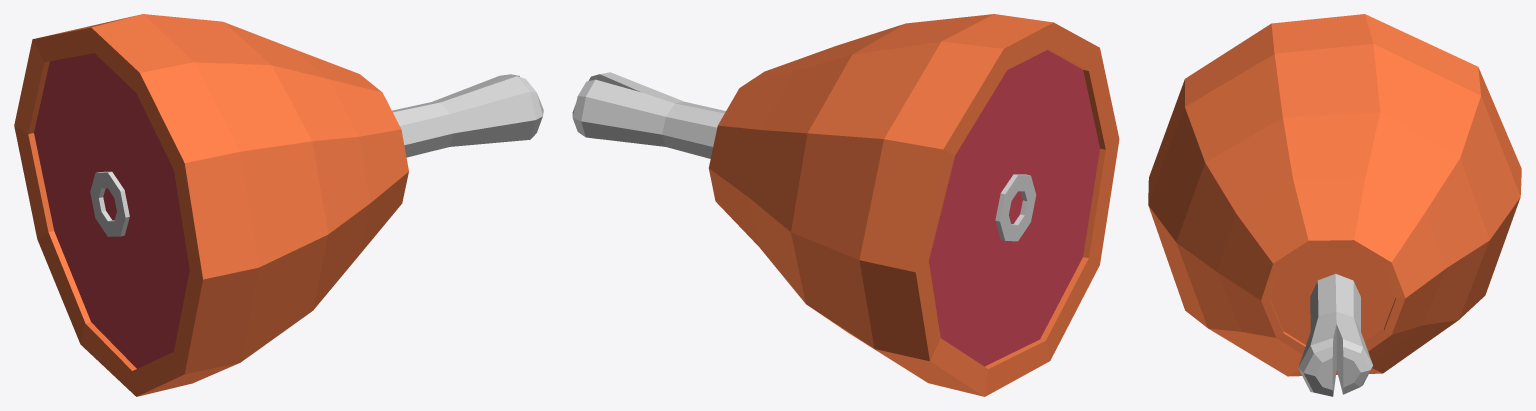
The model's file is ham.obj.
3 views of the same model, side by side, from view 1: azimuth 30°, elevation 25°; view 2: azimuth 150°, elevation 25°; view 3: azimuth 270°, elevation 25° (orthographic). The views are drawn at different scales.
Visible parts, largest first — view 1: ham; view 2: ham; view 3: ham.
Part boxes in pixels (x1,y1,x2,y2): ham: [14, 14, 543, 396]; ham: [572, 14, 1119, 396]; ham: [1148, 14, 1521, 396].
Bounding box in the file's own units: 0.1704 × 0.1284 × 0.134.
